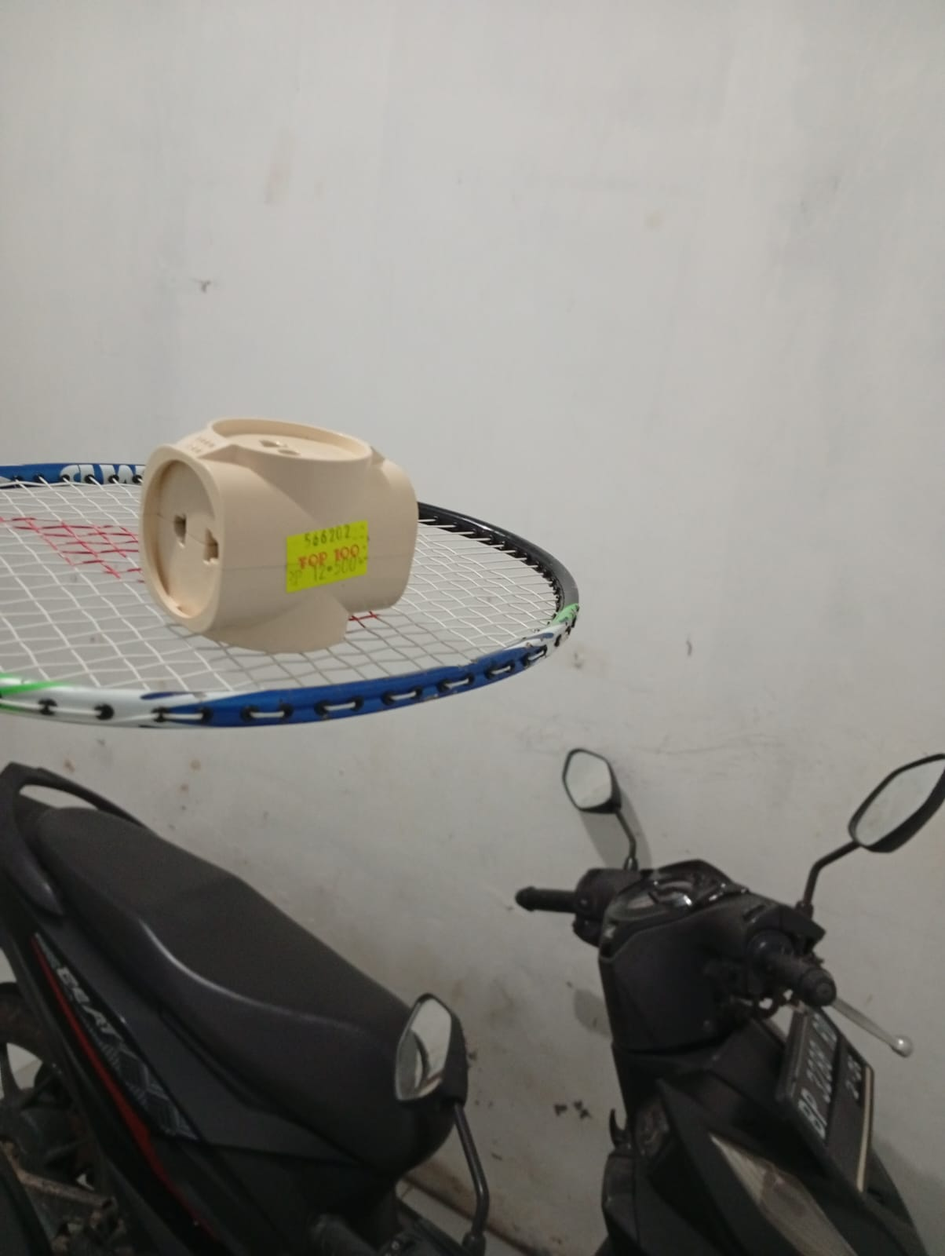Colokan: (108, 401, 456, 657)
